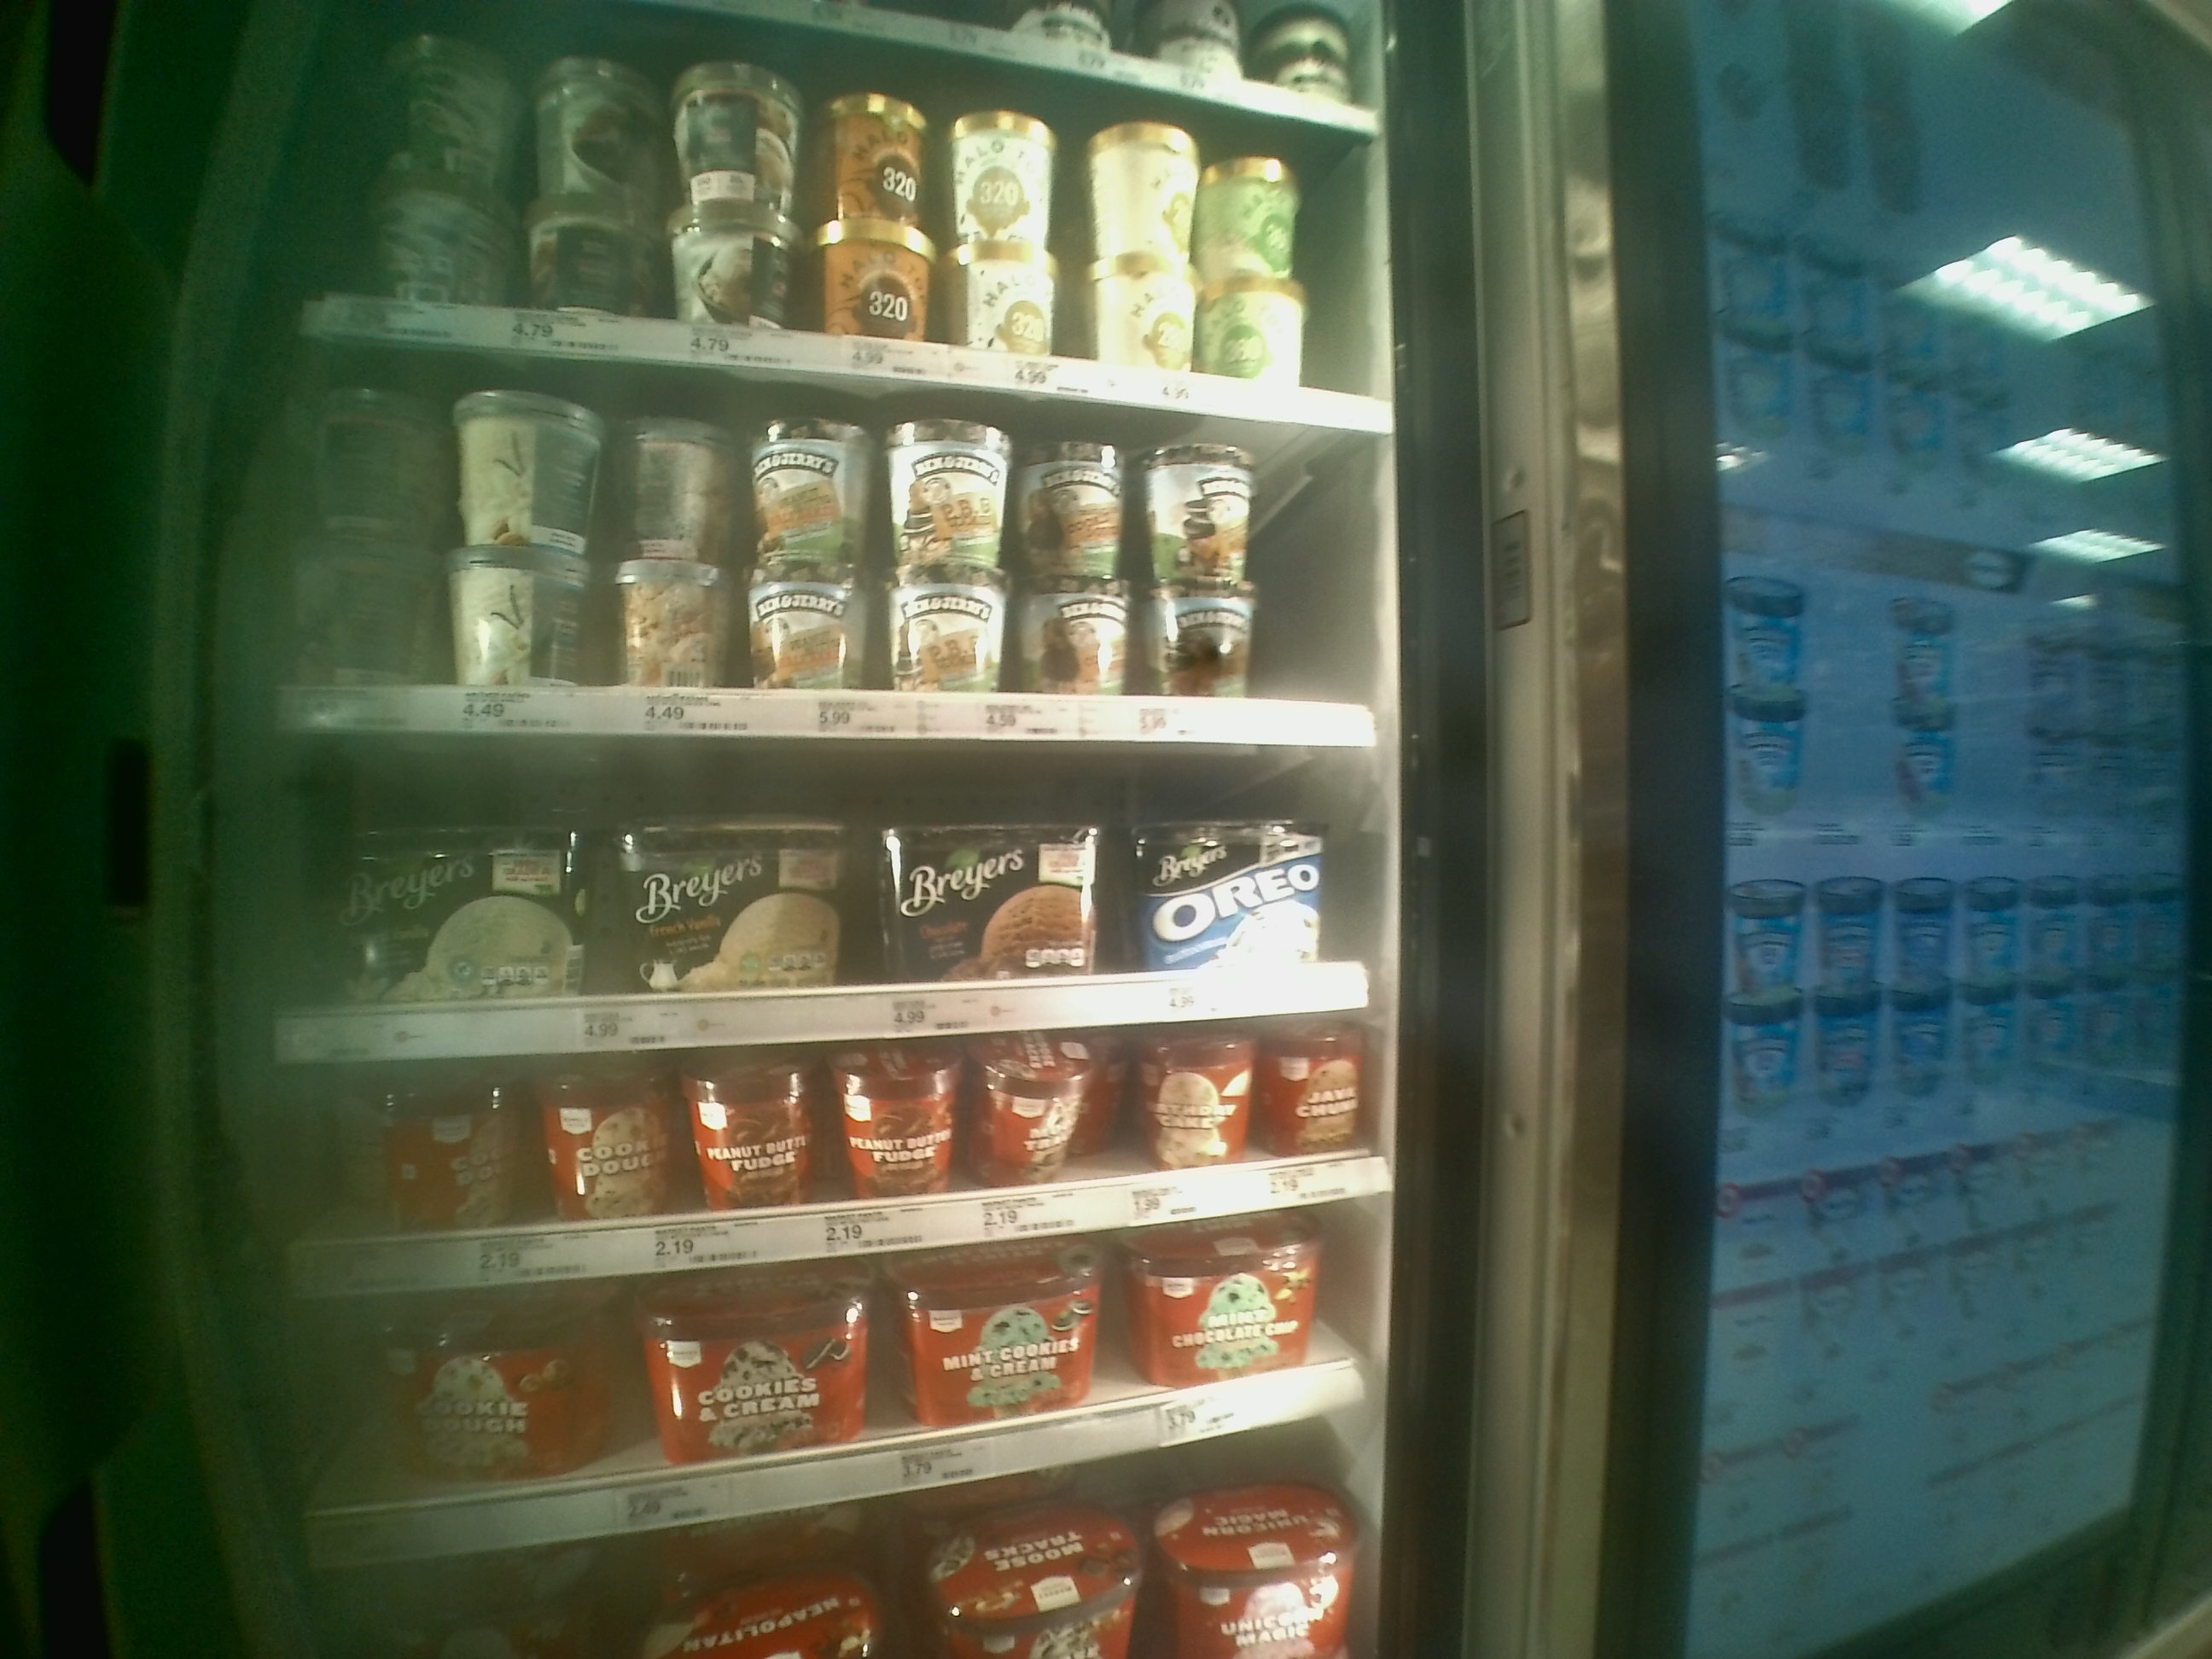shelf: (228, 382, 1393, 755), (223, 755, 1374, 1046), (272, 1309, 1388, 1577), (240, 1058, 1383, 1302)
